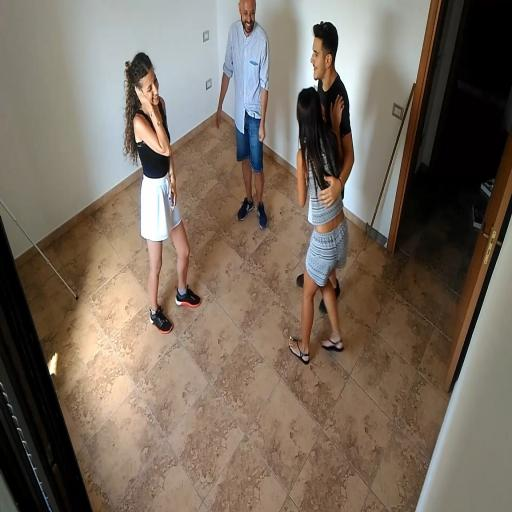nao-violencia: (281, 14, 358, 372)
